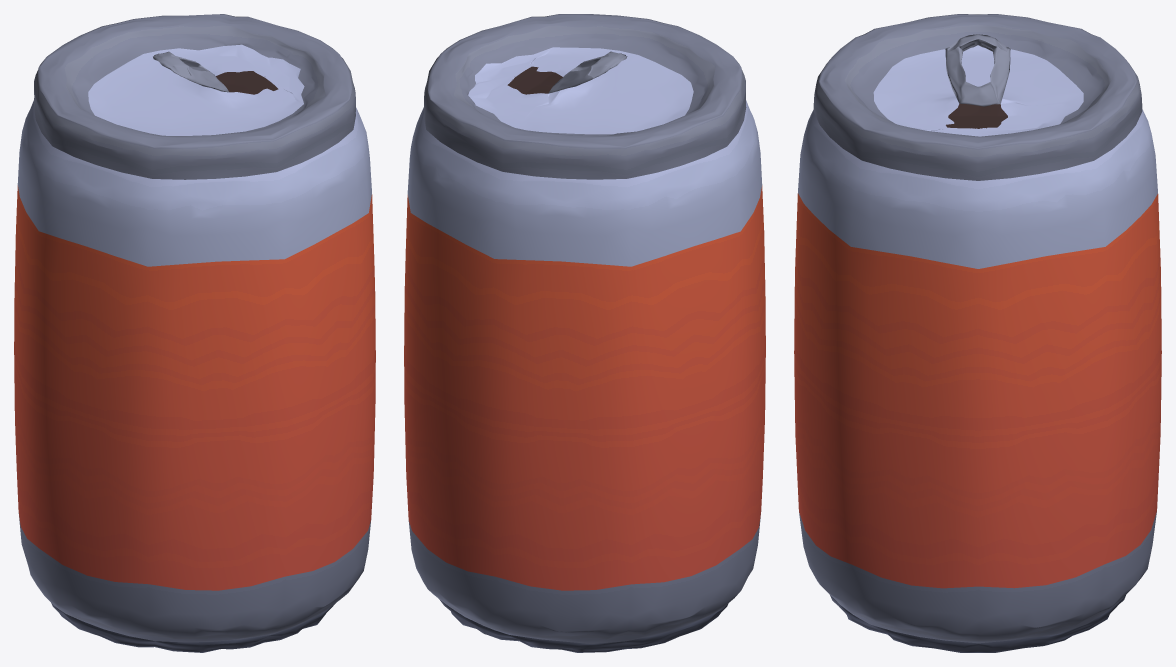
The picture shows the model from 3 angles, left to right: view 1: azimuth 30°, elevation 25°; view 2: azimuth 150°, elevation 25°; view 3: azimuth 270°, elevation 25°; orthographic projection.
Size of the model in its own units: 0.6069 by 0.9934 by 0.6069.
1 material, 1 textured.
